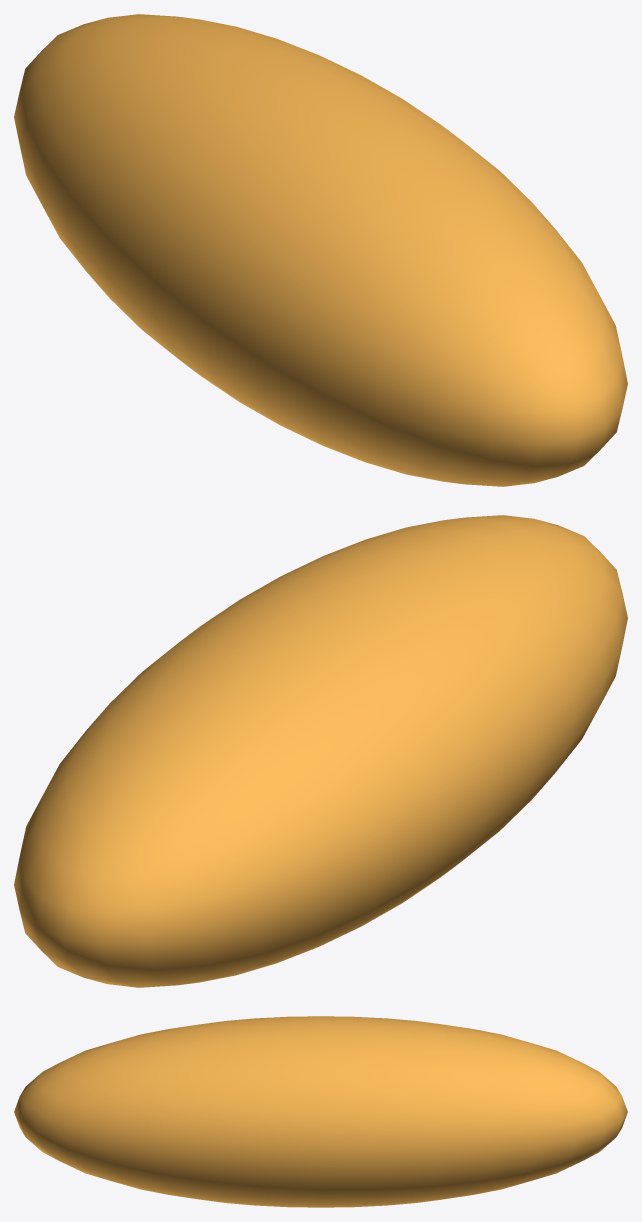
The model's file is ciasto-bagietka.gltf.
3 views of the same model, one above another, from view 1: azimuth 30°, elevation 25°; view 2: azimuth 150°, elevation 25°; view 3: azimuth 270°, elevation 25° (orthographic). The views are drawn at different scales.
Visible parts, largest first — view 1: Sphere.009; view 2: Sphere.009; view 3: Sphere.009.
Boxes of the visible parts, x1=… form: Sphere.009: x1=14, y1=14, x2=627, y2=486; Sphere.009: x1=14, y1=515, x2=627, y2=987; Sphere.009: x1=14, y1=1016, x2=627, y2=1207.
Bounding box in the file's own units: 0.1247 × 0.0974 × 0.3293.
1 material, 1 textured.
